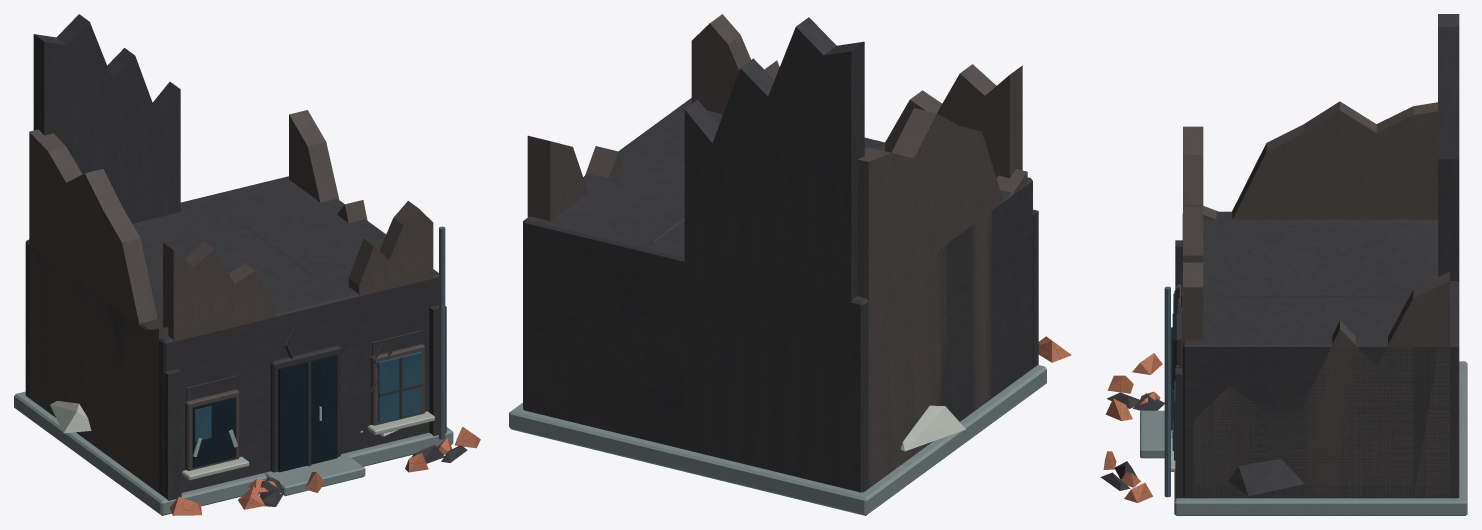
The model's file is apartment-ruined.glb.
3 views of the same model, side by side, from view 1: azimuth 30°, elevation 25°; view 2: azimuth 150°, elevation 25°; view 3: azimuth 270°, elevation 25° (orthographic). The views are drawn at different scales.
Visible parts, largest first — view 1: apartment-ruined; view 2: apartment-ruined; view 3: apartment-ruined.
Boxes of the visible parts, x1,y1,x2,y2 form: apartment-ruined: [14, 14, 480, 515]; apartment-ruined: [509, 14, 1071, 515]; apartment-ruined: [1100, 14, 1467, 515].
Bounding box in the file's own units: 6.47 × 7.09 × 6.24.
3 materials, 3 textured.
